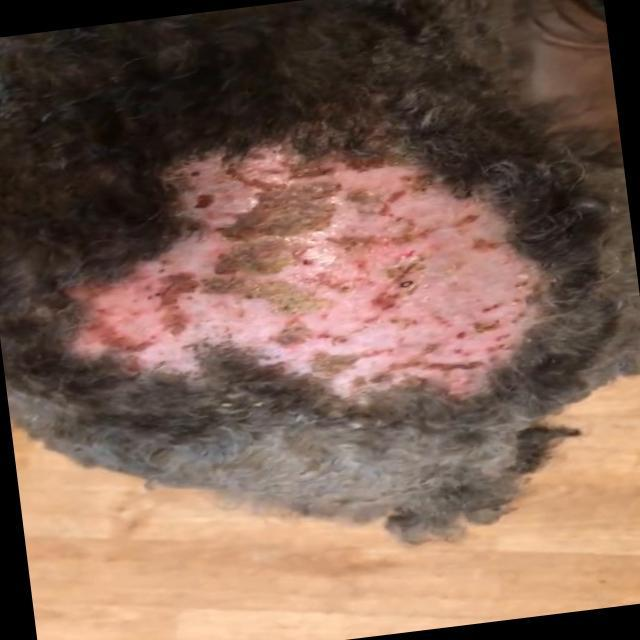allergic dermatitis: (67, 136, 531, 402)
